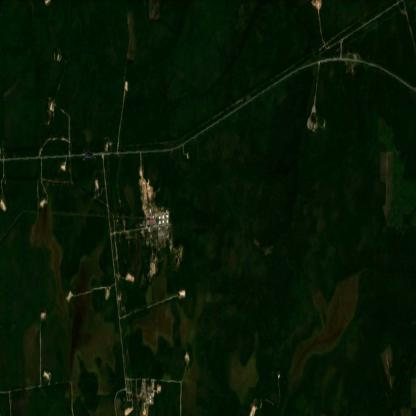oil: (78, 136, 100, 174)
